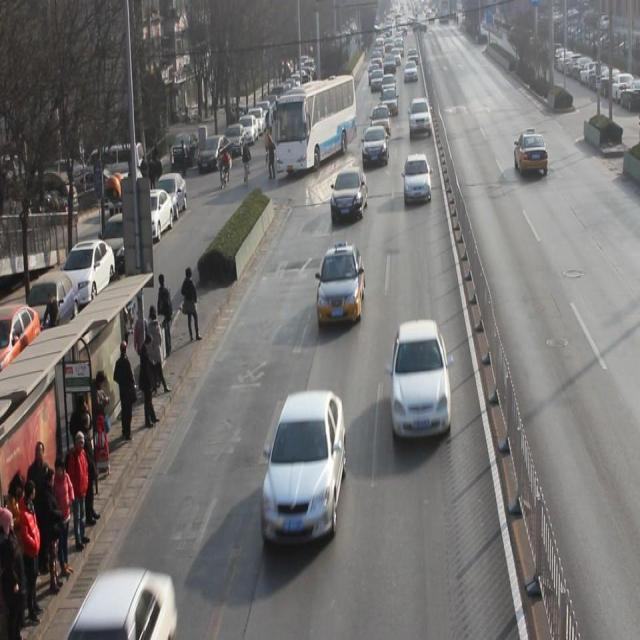car: (262, 387, 346, 548), (391, 320, 452, 441), (317, 244, 365, 325), (330, 166, 369, 222), (513, 130, 548, 177), (403, 154, 432, 205), (362, 125, 389, 168), (408, 97, 432, 139), (369, 104, 392, 138), (380, 88, 399, 119)
van: (276, 71, 356, 173)
